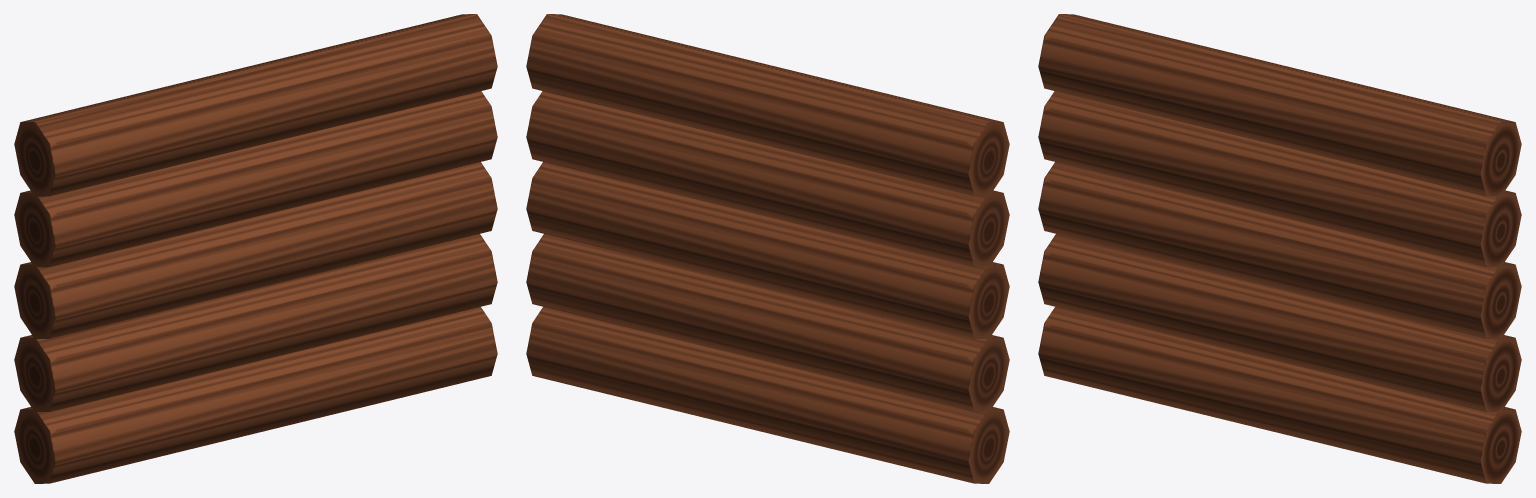
Rendered from Wall.glb.
3 renders of one model, left to right at view 1: azimuth 30°, elevation 25°; view 2: azimuth 150°, elevation 25°; view 3: azimuth 330°, elevation 25°, orthographic.
Parts seen in each view (by area): view 1: Cylinder.004; view 2: Cylinder.004; view 3: Cylinder.004.
Boxes of the visible parts, left/top/right/bottom form: Cylinder.004: left=14, top=14, right=497, bottom=483; Cylinder.004: left=526, top=14, right=1009, bottom=483; Cylinder.004: left=1038, top=14, right=1521, bottom=483.
Size of the model in its own units: 2.82 by 2.21 by 0.456.
1 material, 1 textured.
